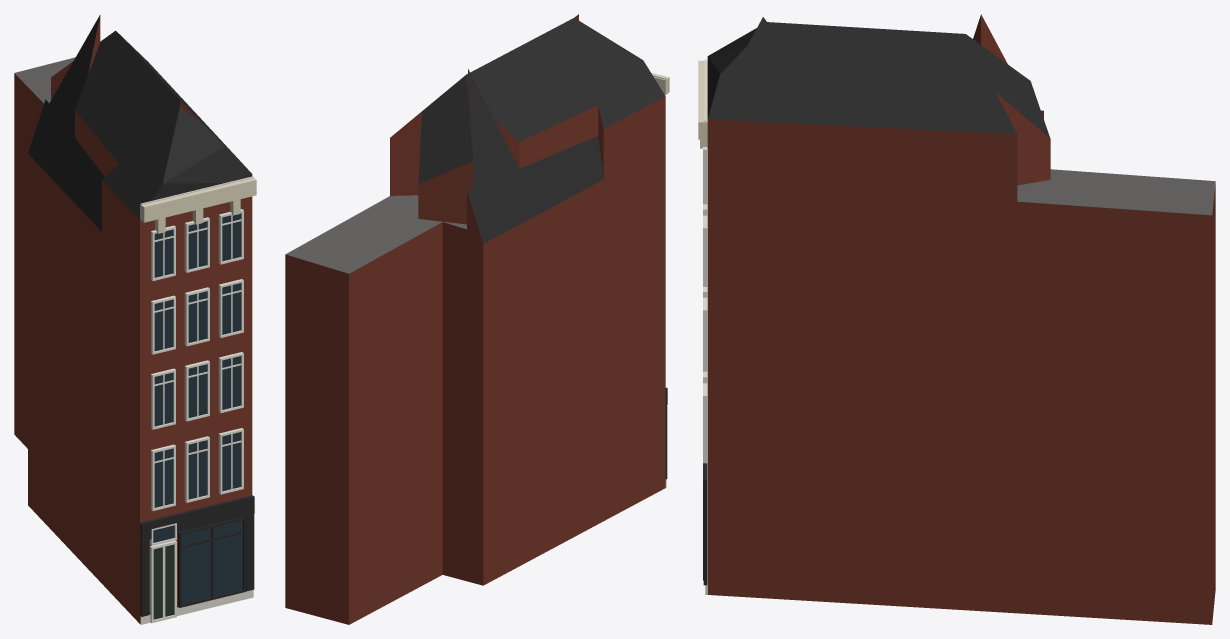
The picture shows the model from 3 angles, left to right: view 1: azimuth 30°, elevation 25°; view 2: azimuth 150°, elevation 25°; view 3: azimuth 270°, elevation 25°; orthographic projection. The views are drawn at different scales.
Visible parts, largest first — view 1: spec-0363100012182304; view 2: spec-0363100012182304; view 3: spec-0363100012182304.
Part boxes in pixels (x1,y1,x2,y2): spec-0363100012182304: [14, 15, 256, 624]; spec-0363100012182304: [285, 14, 669, 624]; spec-0363100012182304: [698, 14, 1215, 624].
Size of the model in its own units: 6.25 by 17.9 by 14.88.
